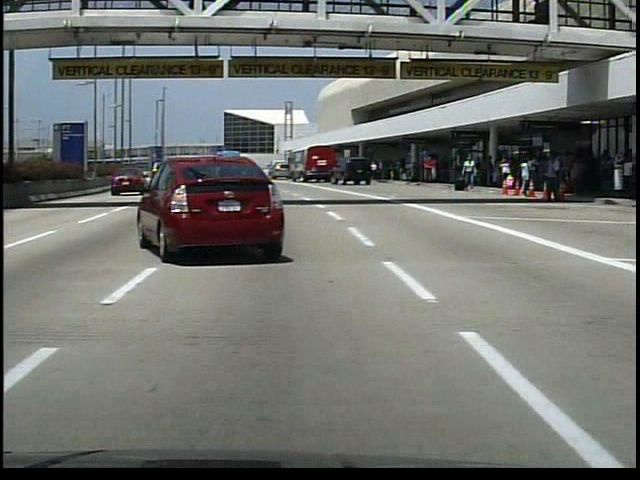person: (539, 153, 560, 206), (461, 155, 479, 194), (422, 155, 437, 184), (369, 162, 380, 181)
